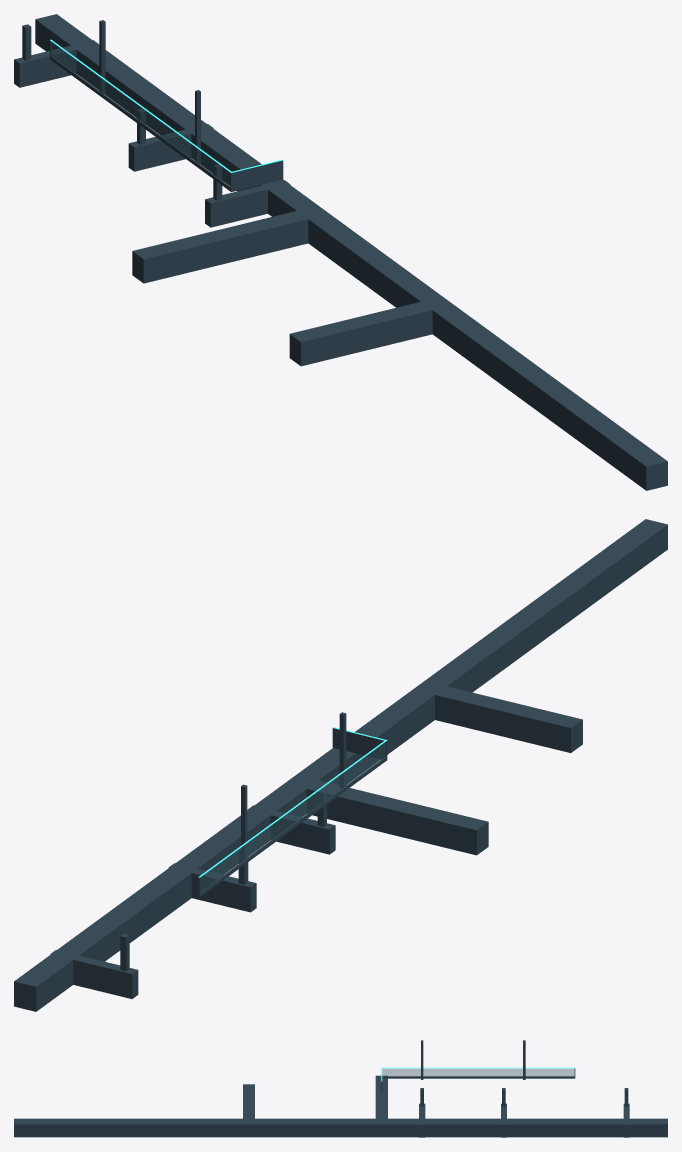
Rendered from v02-transit-world-01-03-06.glb.
3 views of the same model, one above another, from view 1: azimuth 30°, elevation 25°; view 2: azimuth 150°, elevation 25°; view 3: azimuth 270°, elevation 25° (orthographic). The views are drawn at different scales.
Parts seen in each view (by area): view 1: v02-transit-world-01-03-06; view 2: v02-transit-world-01-03-06; view 3: v02-transit-world-01-03-06.
Boxes of the visible parts, left/top/right/bottom form: v02-transit-world-01-03-06: left=14, top=14, right=667, bottom=490; v02-transit-world-01-03-06: left=14, top=519, right=667, bottom=1011; v02-transit-world-01-03-06: left=14, top=1040, right=667, bottom=1137.
Size of the model in its own units: 11.3 by 7.9 by 63.99.
